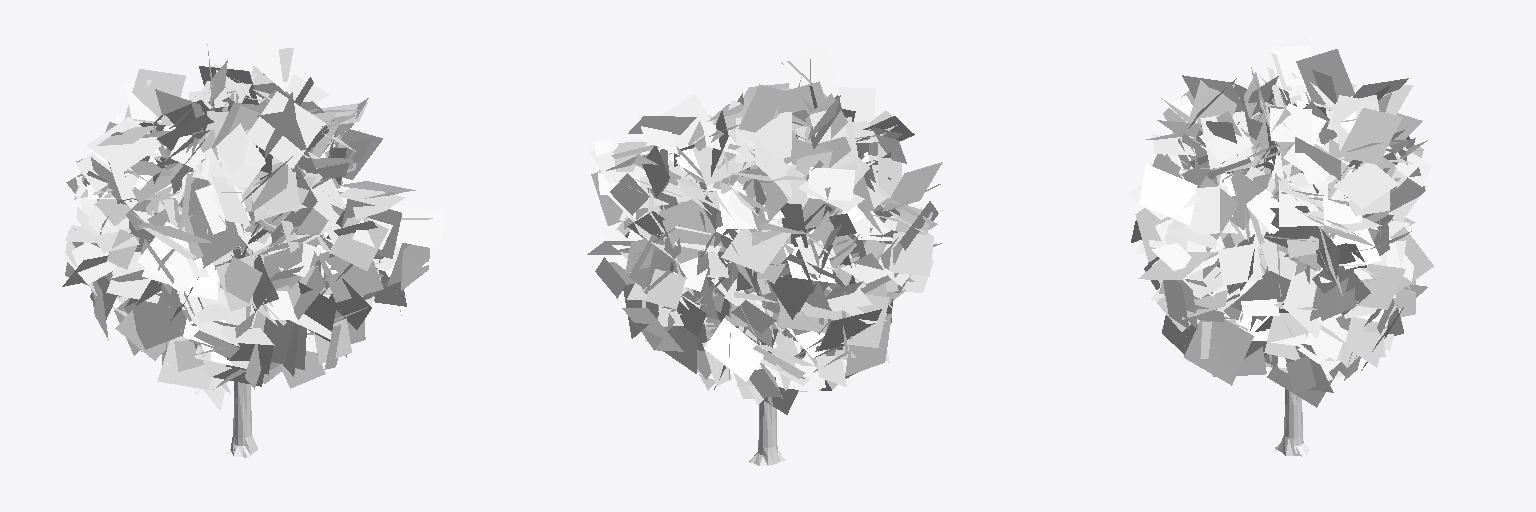
The model's file is Common_Hawthorn_Model_0.obj.
The picture shows the model from 3 angles: view 1: azimuth 30°, elevation 25°; view 2: azimuth 150°, elevation 25°; view 3: azimuth 270°, elevation 25°; orthographic projection.
Parts seen in each view (by area): view 1: Foliage__leafcard, Bark; view 2: Foliage__leafcard, Bark; view 3: Foliage__leafcard, Bark.
Boxes of the visible parts, x1=… form: Foliage__leafcard: x1=62, y1=26, x2=445, y2=411; Bark: x1=230, y1=382, x2=257, y2=457; Foliage__leafcard: x1=587, y1=46, x2=942, y2=414; Bark: x1=706, y1=329, x2=805, y2=465; Foliage__leafcard: x1=1126, y1=35, x2=1433, y2=407; Bark: x1=1275, y1=389, x2=1309, y2=456.
Size of the model in its own units: 8.08 by 10 by 7.08.